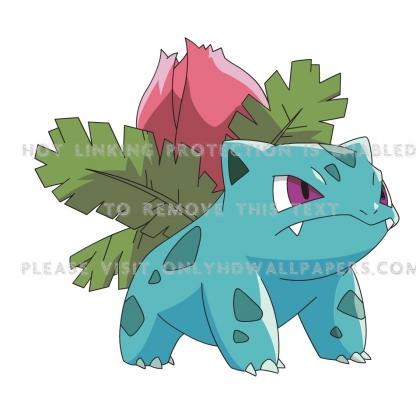Ivysaur: (20, 15, 416, 369)
